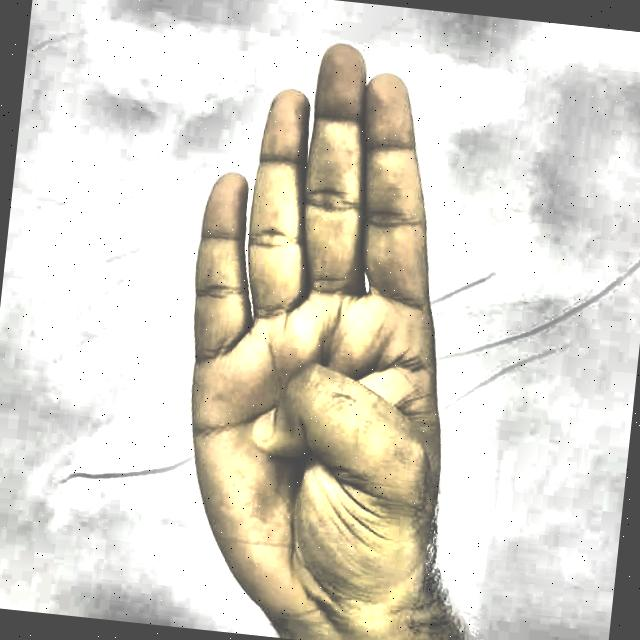Ba: (125, 5, 546, 640)
